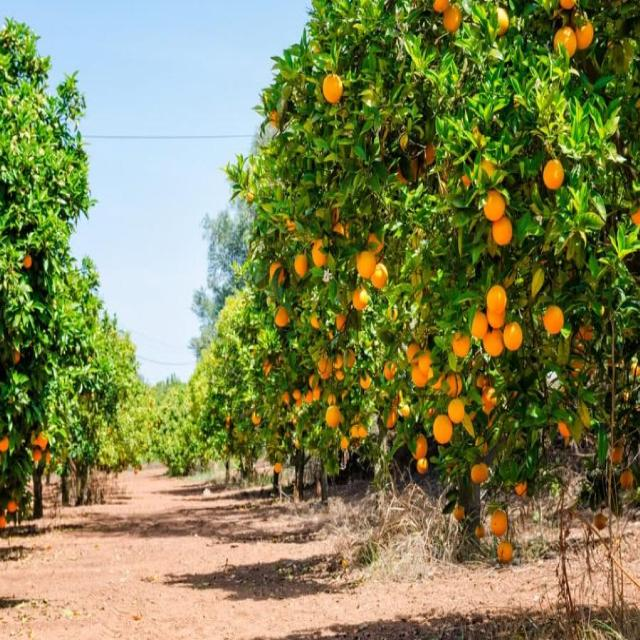row: (0, 473, 587, 639)
